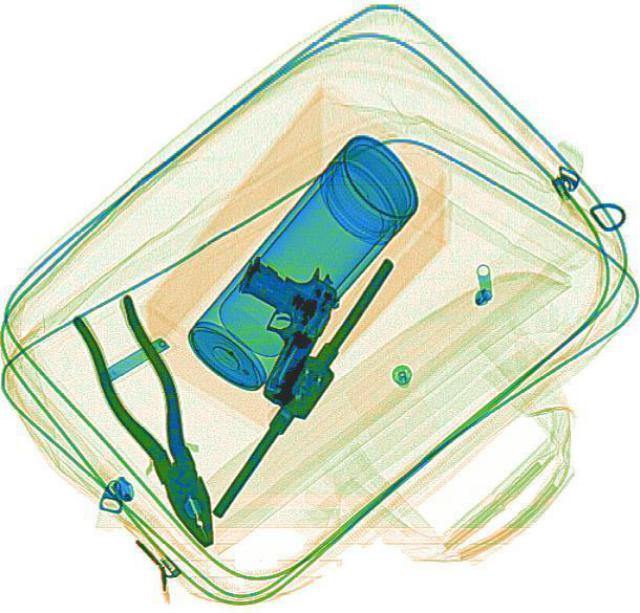Gun: (192, 244, 348, 407)
Pliers: (63, 291, 245, 556)
